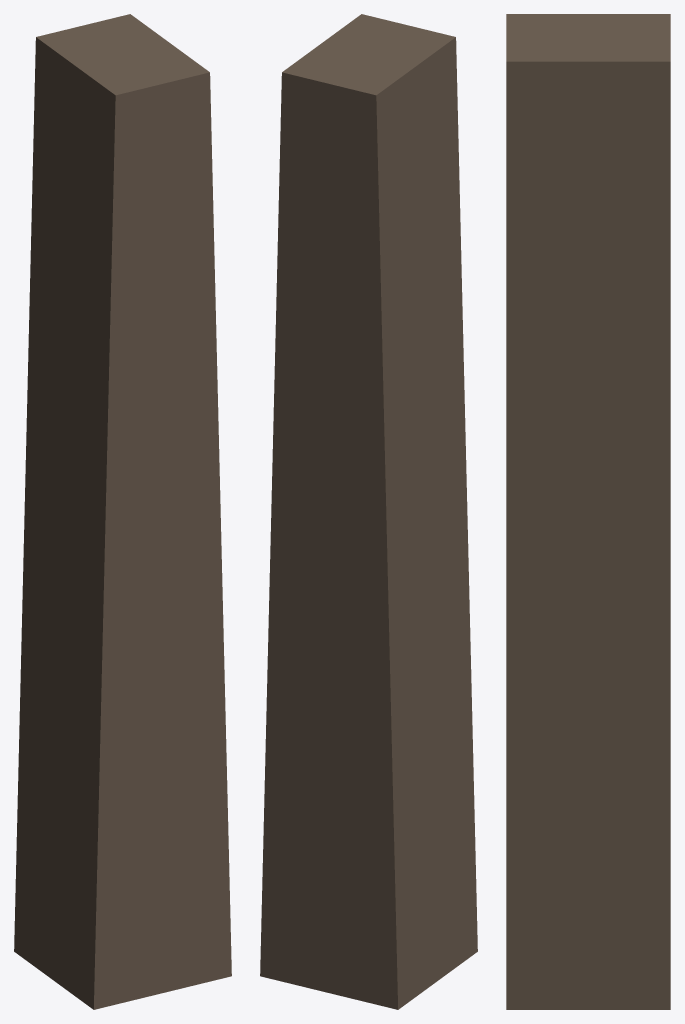
Rendered from Clock1_C2_03.fbx.
3 renders of one model, left to right at view 1: azimuth 30°, elevation 25°; view 2: azimuth 150°, elevation 25°; view 3: azimuth 270°, elevation 25°, orthographic. The views are drawn at different scales.
Visible parts, largest first — view 1: Clock1_C2_03; view 2: Clock1_C2_03; view 3: Clock1_C2_03.
Part boxes in pixels (x1,y1,x2,y2): Clock1_C2_03: [14, 14, 231, 1009]; Clock1_C2_03: [260, 14, 477, 1009]; Clock1_C2_03: [506, 14, 670, 1009].
Size of the model in its own units: 0.7428 by 4.67 by 0.7428.
